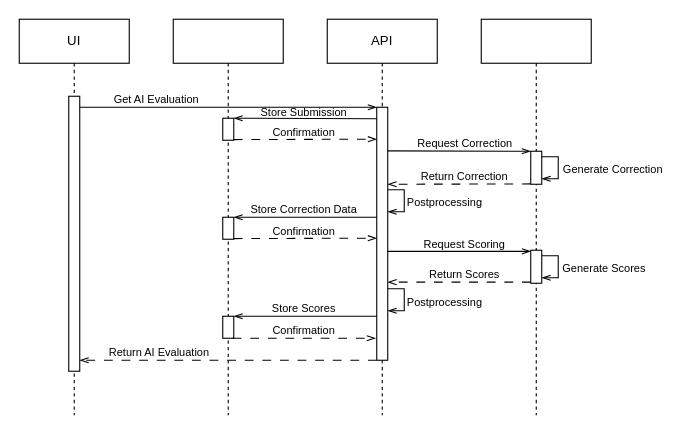
This 688x435 diagram has some shape labels left out. Here are the shapes that lost their labels. From the top down, the centre of each, then its label:
At pixel 227 216: "Database".
At pixel 535 216: "LLM".
